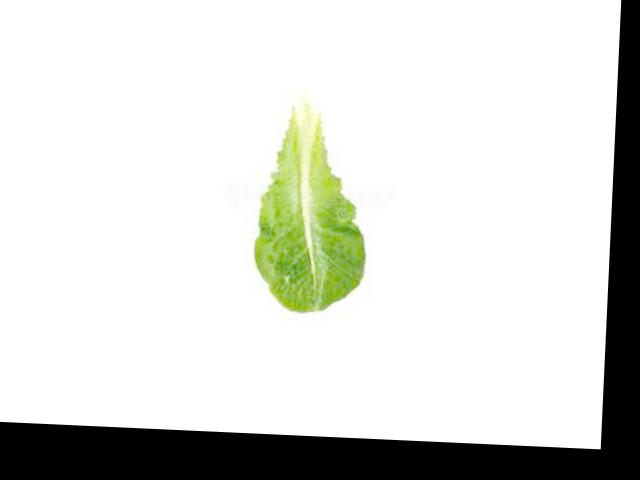lettuce: (250, 92, 372, 313)
